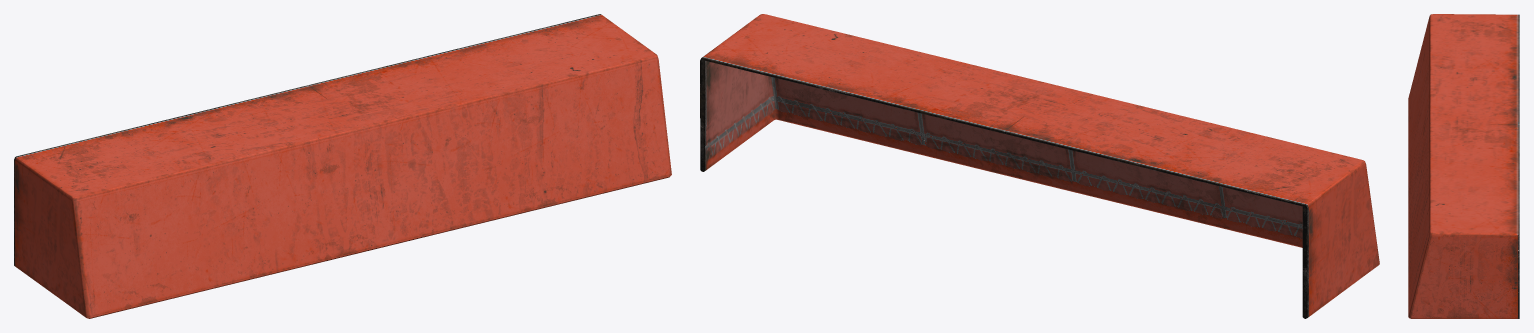
The model's file is ShopRoof_A.fbx.
3 renders of one model, left to right at view 1: azimuth 30°, elevation 25°; view 2: azimuth 150°, elevation 25°; view 3: azimuth 270°, elevation 25°, orthographic. The views are drawn at different scales.
Parts seen in each view (by area): view 1: ShopRoof_A; view 2: ShopRoof_A; view 3: ShopRoof_A.
Part boxes in pixels (box(x1,y1,x2,y2)): ShopRoof_A: box(14, 14, 671, 318); ShopRoof_A: box(700, 14, 1379, 318); ShopRoof_A: box(1408, 14, 1519, 318).
Bounding box in the file's own units: 262 × 47.62 × 55.91.
1 material, 1 textured.
